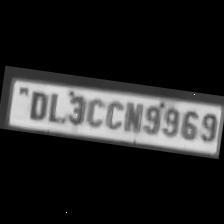3: (61, 90, 86, 125)
6: (177, 107, 201, 141)
9: (140, 100, 164, 135), (196, 108, 220, 142), (159, 103, 182, 137)
C: (83, 94, 107, 128), (101, 96, 125, 130)
D: (24, 86, 50, 120)
L: (46, 89, 68, 123)
N: (120, 99, 144, 134)
